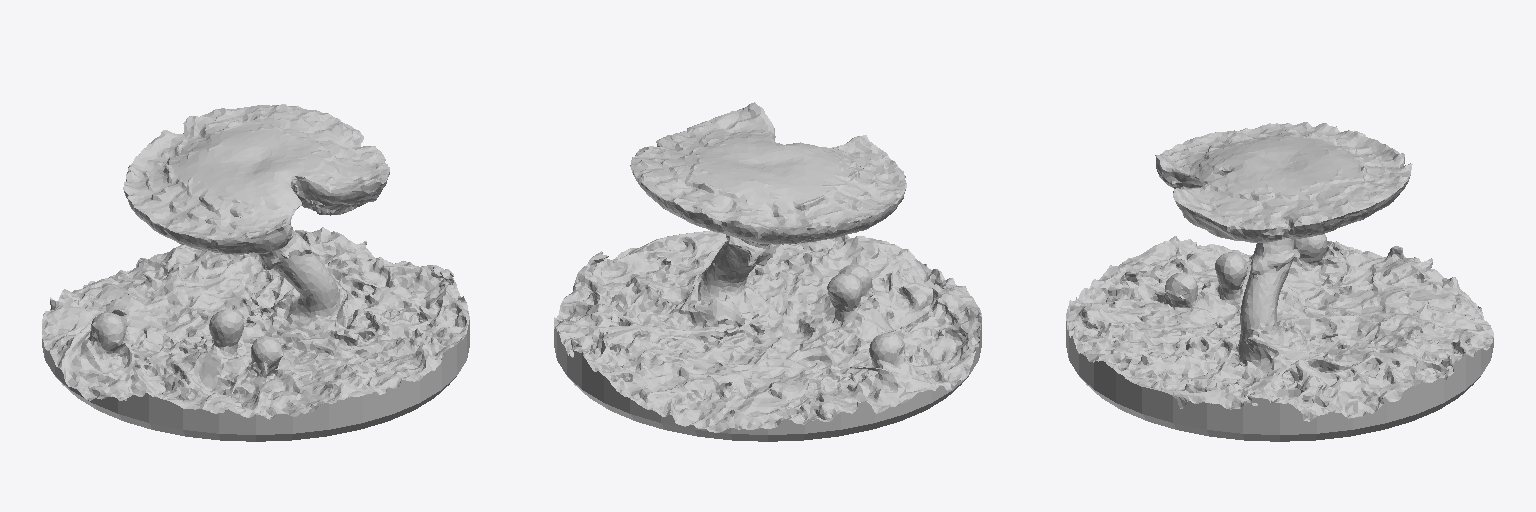
Rendered from mushroom.obj.
3 views of the same model, side by side, from view 1: azimuth 30°, elevation 25°; view 2: azimuth 150°, elevation 25°; view 3: azimuth 270°, elevation 25° (orthographic).
Visible parts, largest first — view 1: Object_3, Object_2; view 2: Object_3, Object_2; view 3: Object_3, Object_2.
Boxes of the visible parts, x1=… form: Object_3: x1=42, y1=104, x2=469, y2=419; Object_2: x1=42, y1=320, x2=469, y2=441; Object_3: x1=554, y1=102, x2=981, y2=432; Object_2: x1=554, y1=324, x2=981, y2=441; Object_3: x1=1066, y1=122, x2=1493, y2=421; Object_2: x1=1066, y1=321, x2=1493, y2=441.
Size of the model in its own units: 0.4752 by 0.2419 by 0.4752.